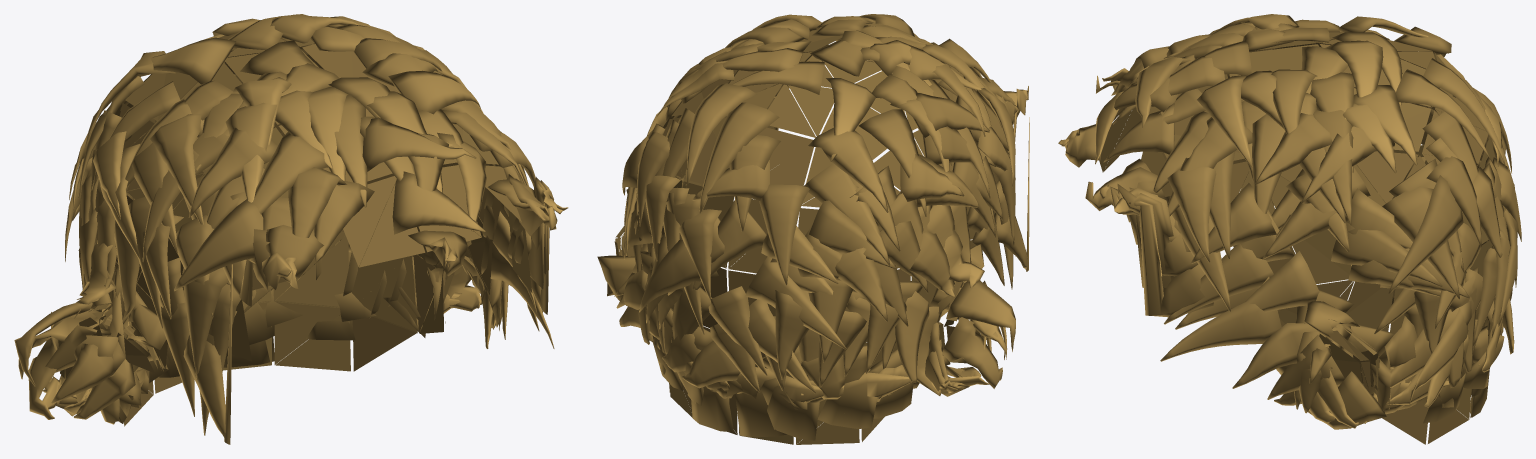
File: kopf.haar.zerzaust.glb
3 renders of one model, left to right at view 1: azimuth 30°, elevation 25°; view 2: azimuth 150°, elevation 25°; view 3: azimuth 270°, elevation 25°, orthographic. The views are drawn at different scales.
Parts seen in each view (by area): view 1: haar; view 2: haar; view 3: haar.
Boxes of the visible parts, x1=… form: haar: x1=14, y1=14, x2=568, y2=444; haar: x1=597, y1=14, x2=1029, y2=444; haar: x1=1058, y1=14, x2=1521, y2=444.
Bounding box in the file's own units: 0.2527 × 0.2034 × 0.2374.
